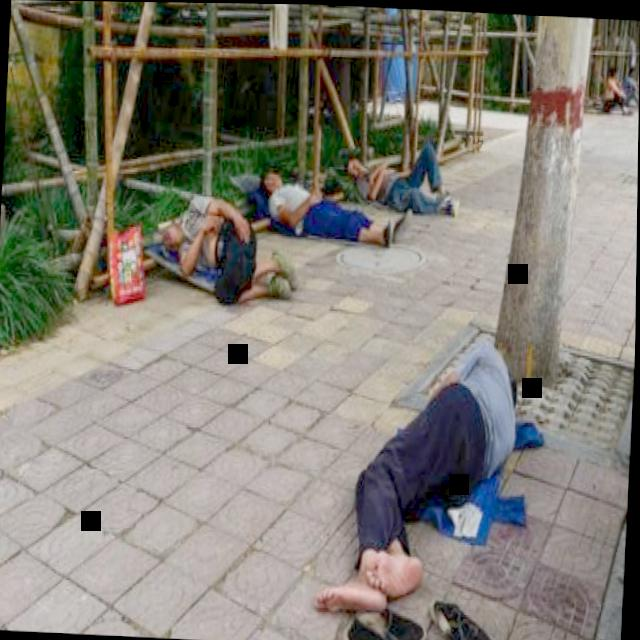Fall-Detected: (236, 152, 409, 249)
